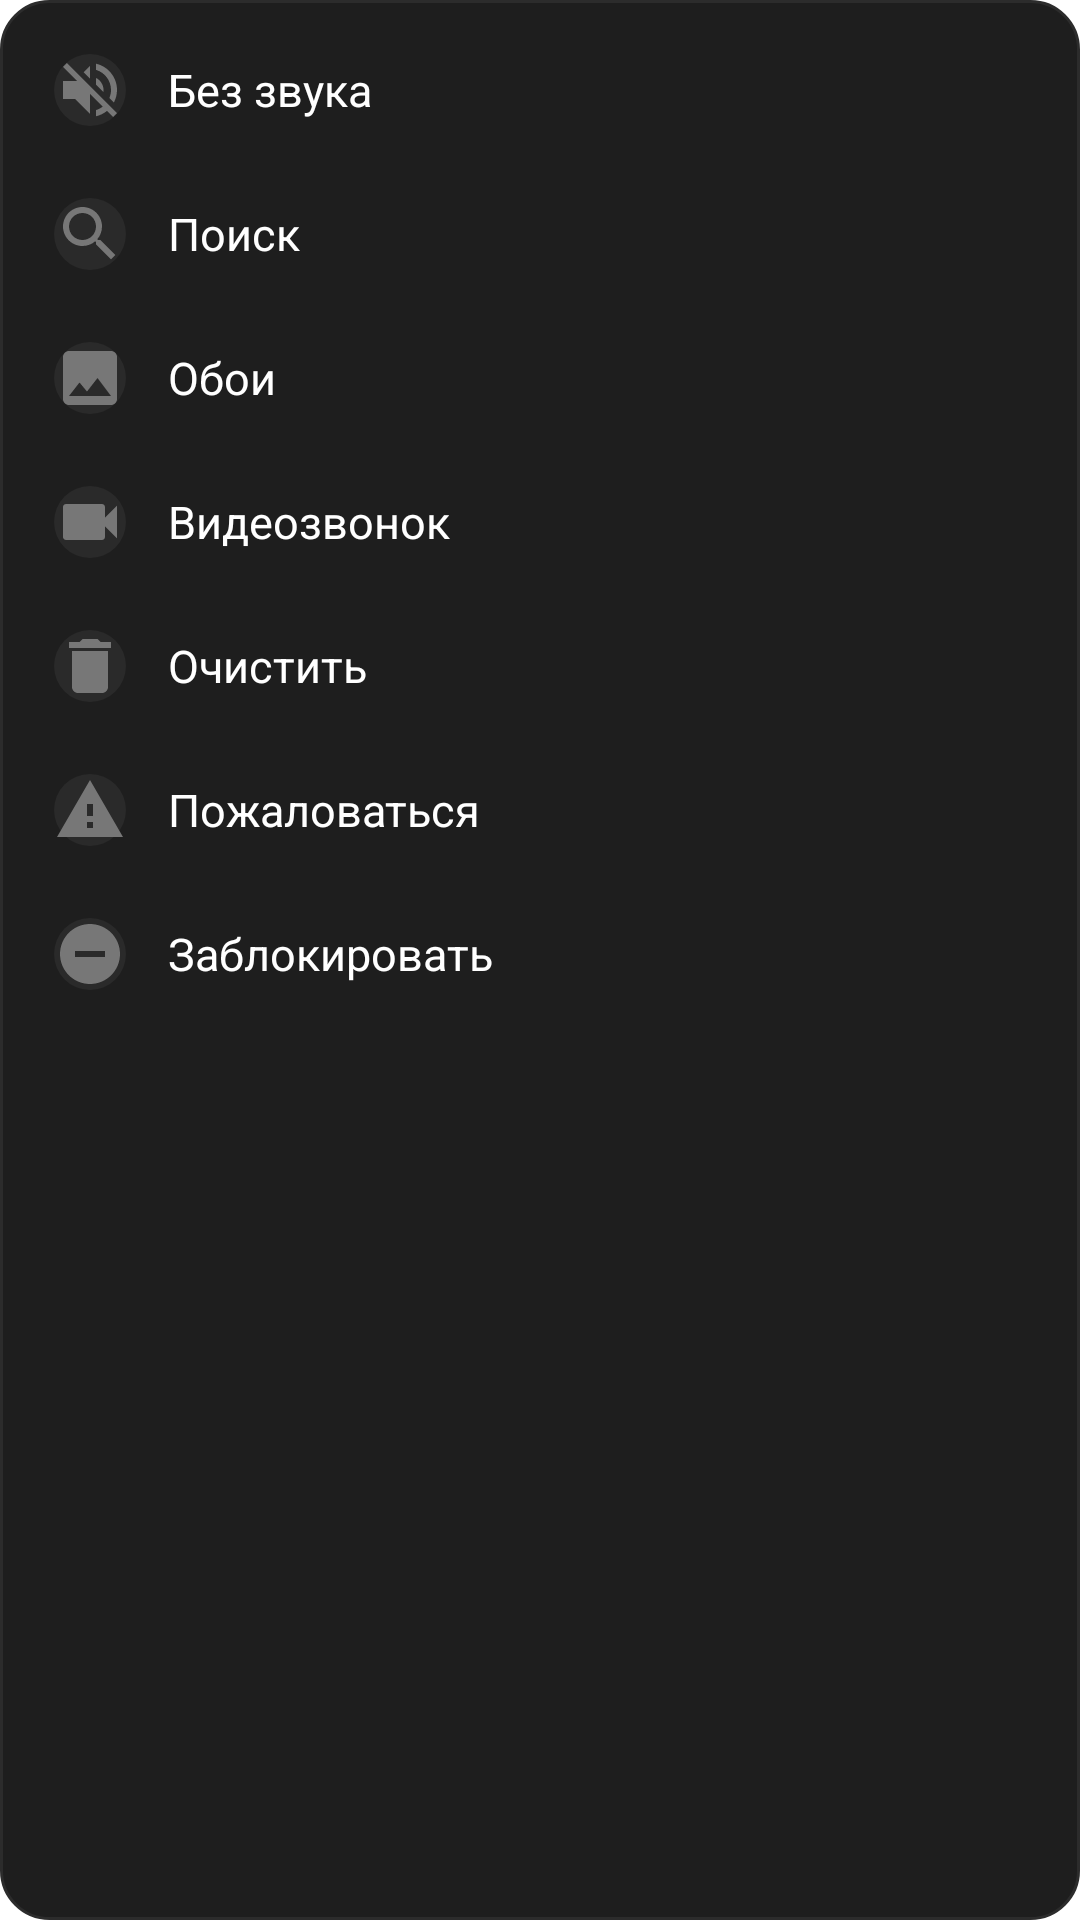

Screen size 1080w x 1920h. Icon name, then its box in pixels as {"x1": x1, "y1": y1, "x2": x2, "y2": y2}:
block: {"x1": 60, "y1": 924, "x2": 120, "y2": 984}
mute: {"x1": 54, "y1": 54, "x2": 126, "y2": 126}
report: {"x1": 54, "y1": 774, "x2": 126, "y2": 846}
search: {"x1": 54, "y1": 198, "x2": 126, "y2": 270}
video call: {"x1": 63, "y1": 504, "x2": 117, "y2": 540}
